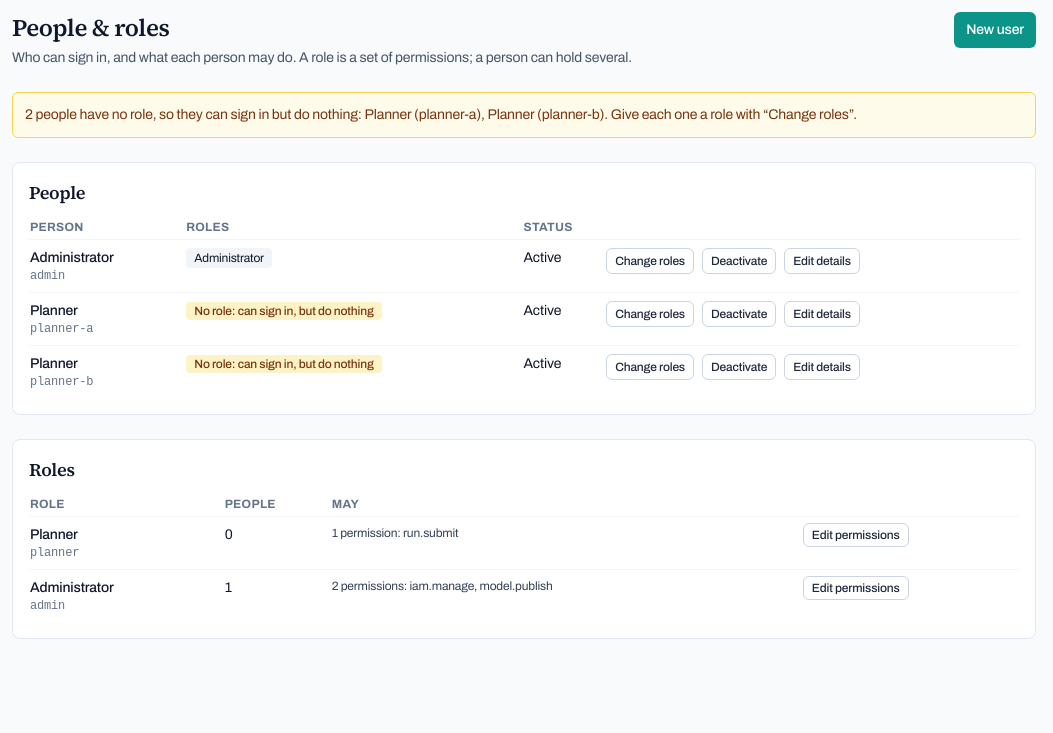
Test: People & roles › gives a person a role in place
Click the 2nd button "Change roles". click: point(650, 314)
box: top-left (606, 301), bottom-right (694, 327)
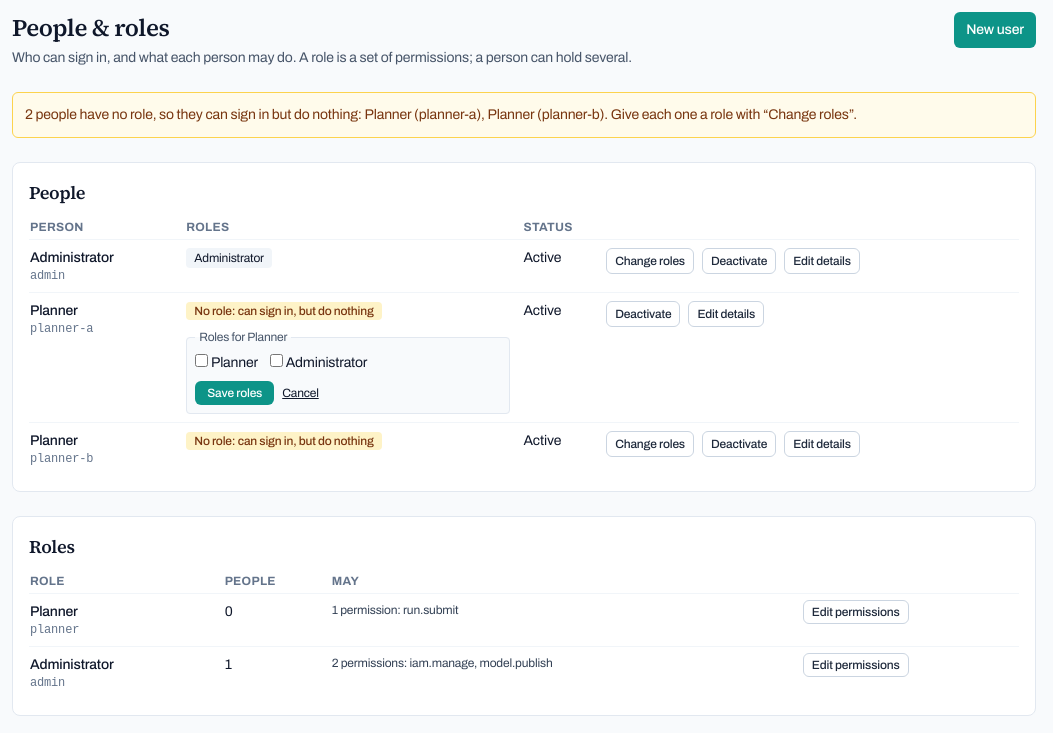
Click the checkbox labelled "Planner". click: point(202, 360)
box: top-left (195, 354), bottom-right (208, 367)
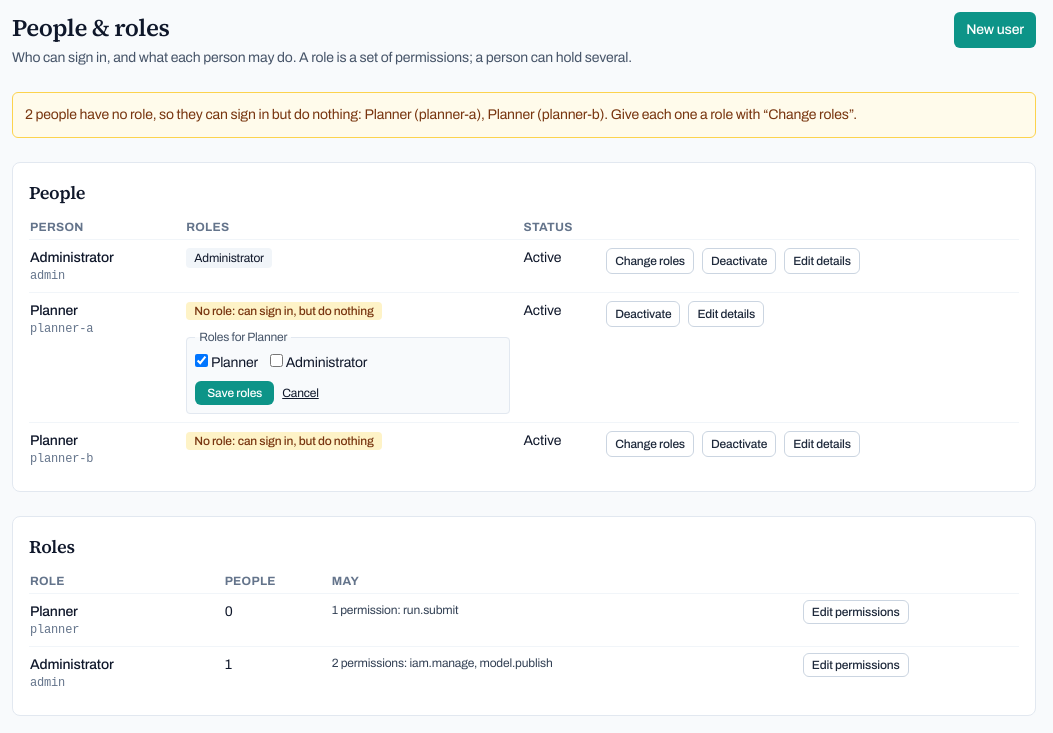
Click the button "Save roles". click: point(235, 393)
box: top-left (195, 381), bottom-right (274, 405)
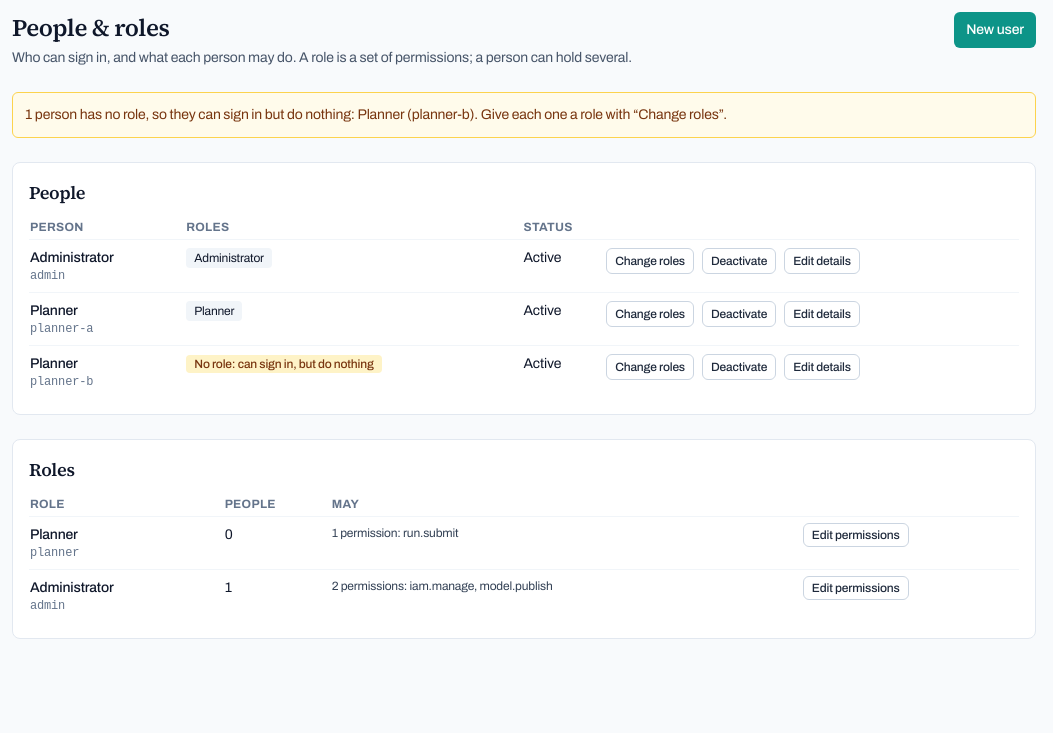
Expected: the text "1 person has no role" is shown, top-left (12, 92), bottom-right (1036, 138)
